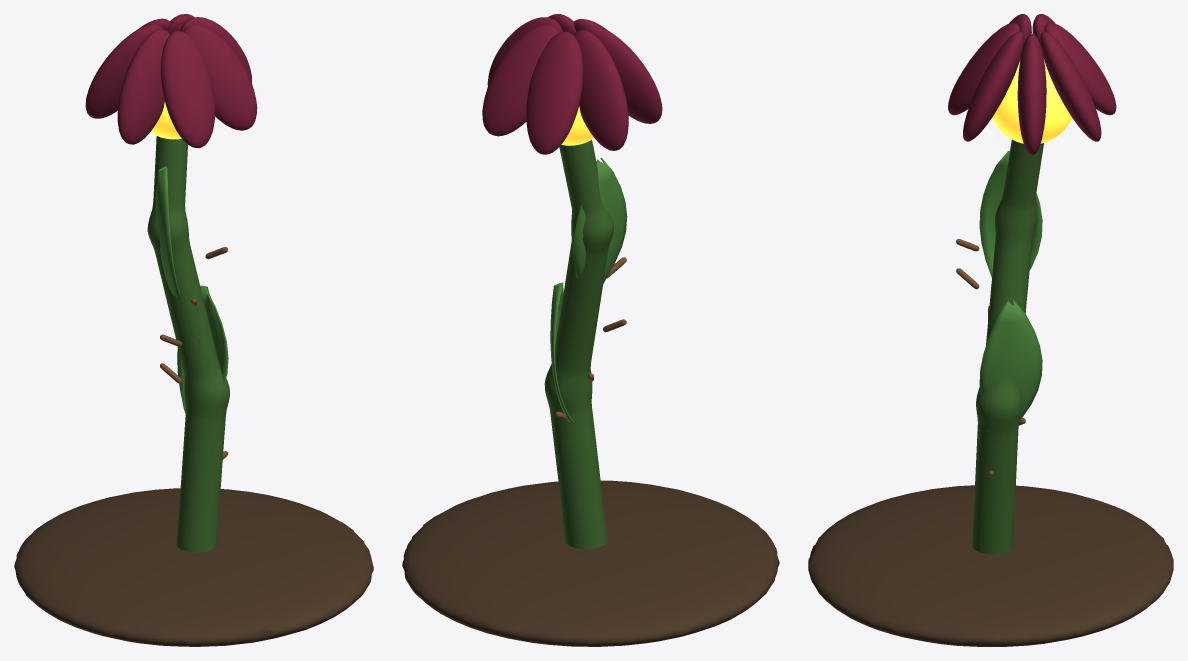
Rendered from thorn_pod.glb.
3 renders of one model, left to right at view 1: azimuth 30°, elevation 25°; view 2: azimuth 150°, elevation 25°; view 3: azimuth 270°, elevation 25°, orthographic. The views are drawn at different scales.
Parts seen in each view (by area): view 1: Soil, Stem, PetalMesh_5, PetalMesh_4, PetalMesh_6, PetalMesh_3, Leaf_1, Leaf_0, PetalMesh_0, Core; view 2: Soil, Stem, PetalMesh_2, PetalMesh_3, PetalMesh_1, PetalMesh_4, Leaf_1, Leaf_0, PetalMesh_0, Core; view 3: Soil, Stem, Leaf_0, PetalMesh_1, PetalMesh_6, PetalMesh_0, Core, Leaf_1, PetalMesh_2, PetalMesh_5.
Boxes of the visible parts, x1,y1,x2,y2 form: Soil: [14, 488, 373, 646]; Stem: [147, 136, 229, 552]; PetalMesh_5: [161, 31, 215, 148]; PetalMesh_4: [117, 29, 169, 144]; PetalMesh_6: [183, 24, 257, 130]; PetalMesh_3: [85, 24, 162, 118]; Leaf_1: [155, 166, 180, 297]; Leaf_0: [177, 285, 228, 413]; PetalMesh_0: [180, 17, 251, 82]; Core: [150, 102, 181, 139]; Soil: [402, 480, 779, 646]; Stem: [544, 140, 614, 549]; PetalMesh_2: [526, 31, 583, 154]; PetalMesh_3: [573, 30, 628, 150]; PetalMesh_1: [482, 25, 559, 136]; PetalMesh_4: [581, 25, 662, 123]; Leaf_1: [573, 158, 627, 283]; Leaf_0: [550, 282, 574, 424]; PetalMesh_0: [487, 17, 562, 85]; Core: [561, 106, 593, 145]; Soil: [808, 485, 1173, 646]; Stem: [972, 139, 1043, 554]; Leaf_0: [979, 299, 1042, 418]; PetalMesh_1: [1040, 31, 1101, 141]; PetalMesh_6: [963, 31, 1023, 141]; PetalMesh_0: [1017, 34, 1046, 154]; Core: [992, 60, 1072, 143]; Leaf_1: [979, 151, 1042, 277]; PetalMesh_2: [1044, 23, 1116, 115]; PetalMesh_5: [948, 22, 1019, 115].
Size of the model in its own units: 0.8879 by 1.54 by 0.888.
